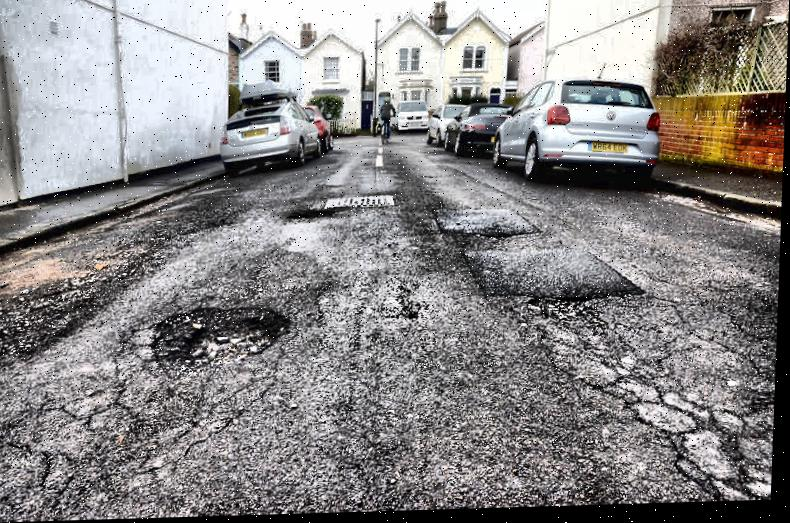pothole: (155, 301, 292, 375), (520, 294, 603, 324), (469, 229, 535, 247), (289, 207, 338, 224)
